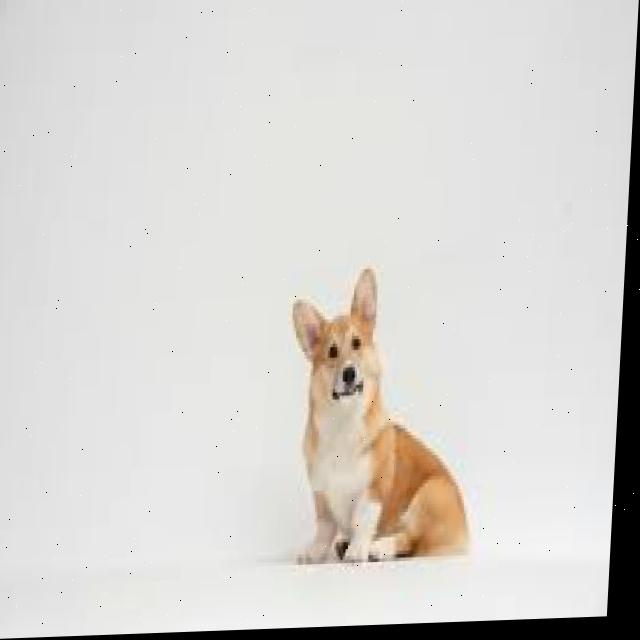CORGI: (278, 264, 496, 574)
